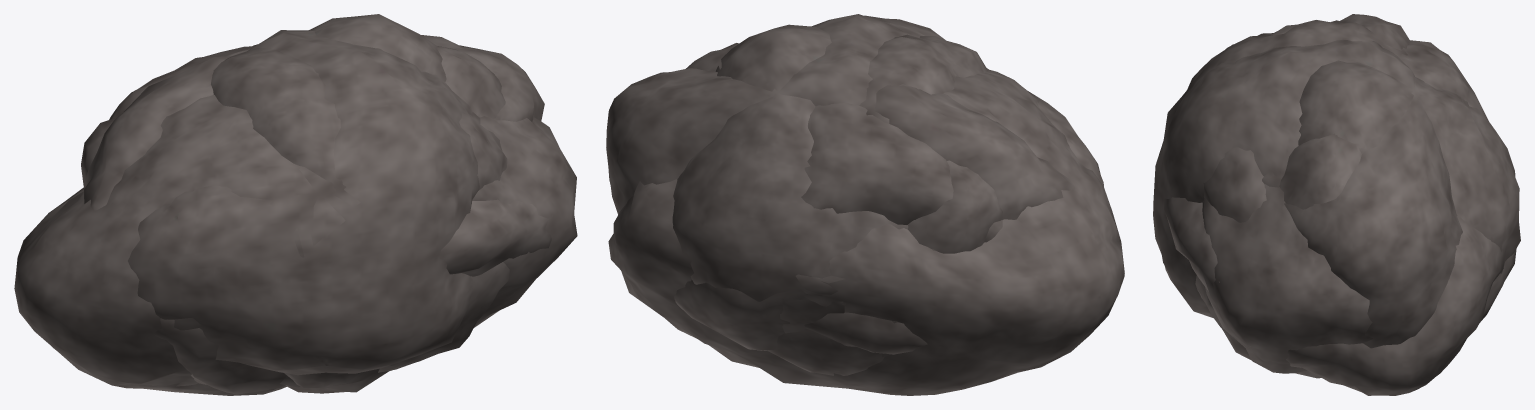
The model's file is asteroids.glb.
3 views of the same model, side by side, from view 1: azimuth 30°, elevation 25°; view 2: azimuth 150°, elevation 25°; view 3: azimuth 270°, elevation 25° (orthographic). The views are drawn at different scales.
Visible parts, largest first — view 1: Asteroid_5, Asteroid_6, Asteroid_4, Asteroid_3, Asteroid_0, Asteroid_1, Asteroid_2; view 2: Asteroid_6, Asteroid_1, Asteroid_5, Asteroid_4, Asteroid_3, Asteroid_2, Asteroid_0; view 3: Asteroid_5, Asteroid_3, Asteroid_1, Asteroid_6, Asteroid_4, Asteroid_2, Asteroid_0.
Part boxes in pixels (x1,y1,x2,y2): Asteroid_5: (81, 30, 544, 395); Asteroid_6: (14, 95, 552, 388); Asteroid_4: (84, 46, 505, 394); Asteroid_3: (109, 46, 577, 393); Asteroid_0: (211, 48, 480, 387); Asteroid_1: (252, 14, 509, 372); Asteroid_2: (459, 112, 507, 190); Asteroid_6: (608, 69, 1124, 395); Asteroid_1: (672, 24, 906, 357); Asteroid_5: (606, 14, 1103, 354); Asteroid_4: (686, 43, 1074, 375); Asteroid_3: (801, 103, 1002, 242); Asteroid_2: (674, 274, 846, 350); Asteroid_0: (780, 34, 987, 324); Asteroid_5: (1153, 40, 1462, 348); Asteroid_3: (1202, 40, 1488, 378); Asteroid_1: (1195, 60, 1520, 360); Asteroid_6: (1164, 20, 1503, 395); Asteroid_4: (1279, 14, 1409, 209); Asteroid_2: (1203, 147, 1516, 322); Asteroid_0: (1175, 20, 1407, 187).
Size of the model in its own units: 3.37 by 2.1 by 2.24.
1 material, 1 textured.
